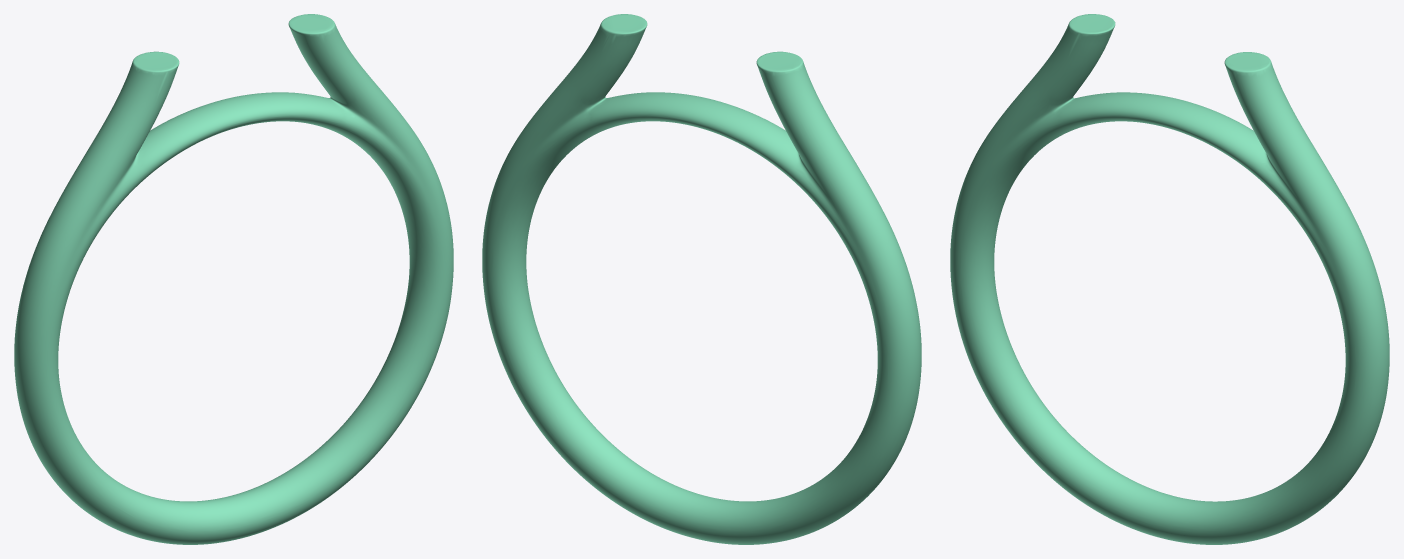
The picture shows the model from 3 angles, left to right: view 1: azimuth 30°, elevation 25°; view 2: azimuth 150°, elevation 25°; view 3: azimuth 330°, elevation 25°; orthographic projection.
Visible parts, largest first — view 1: Metal02; view 2: Metal02; view 3: Metal02.
Part boxes in pixels (x1=…): Metal02: x1=14, y1=14, x2=453, y2=544; Metal02: x1=482, y1=14, x2=921, y2=544; Metal02: x1=950, y1=14, x2=1389, y2=544.
Bounding box in the file's own units: 20.91 × 22.84 × 2.
